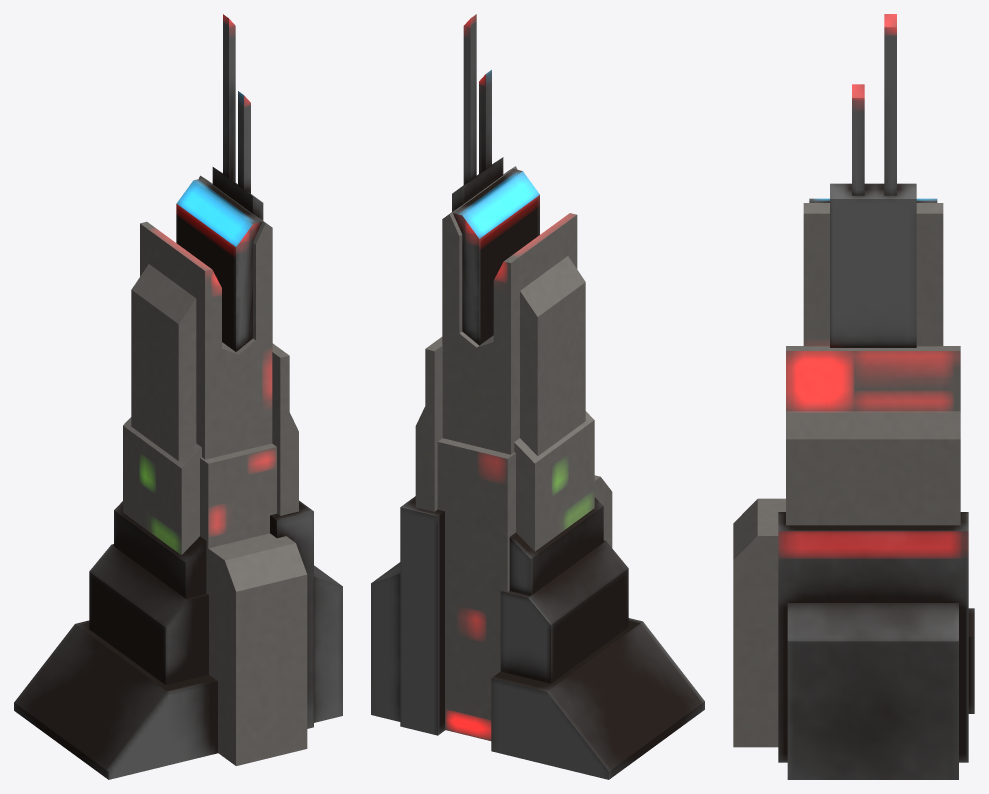
The model's file is SM_BackgroundBuilding_006.fbx.
3 views of the same model, side by side, from view 1: azimuth 30°, elevation 25°; view 2: azimuth 150°, elevation 25°; view 3: azimuth 270°, elevation 25° (orthographic). The views are drawn at different scales.
Parts seen in each view (by area): view 1: SM_BackgroundBuilding_006; view 2: SM_BackgroundBuilding_006; view 3: SM_BackgroundBuilding_006.
Part boxes in pixels (x1,y1,x2,y2): SM_BackgroundBuilding_006: (14, 14, 342, 779); SM_BackgroundBuilding_006: (371, 14, 704, 779); SM_BackgroundBuilding_006: (733, 14, 974, 779).
Bounding box in the file's own units: 1170 × 945 × 3154.
1 material, 1 textured.
